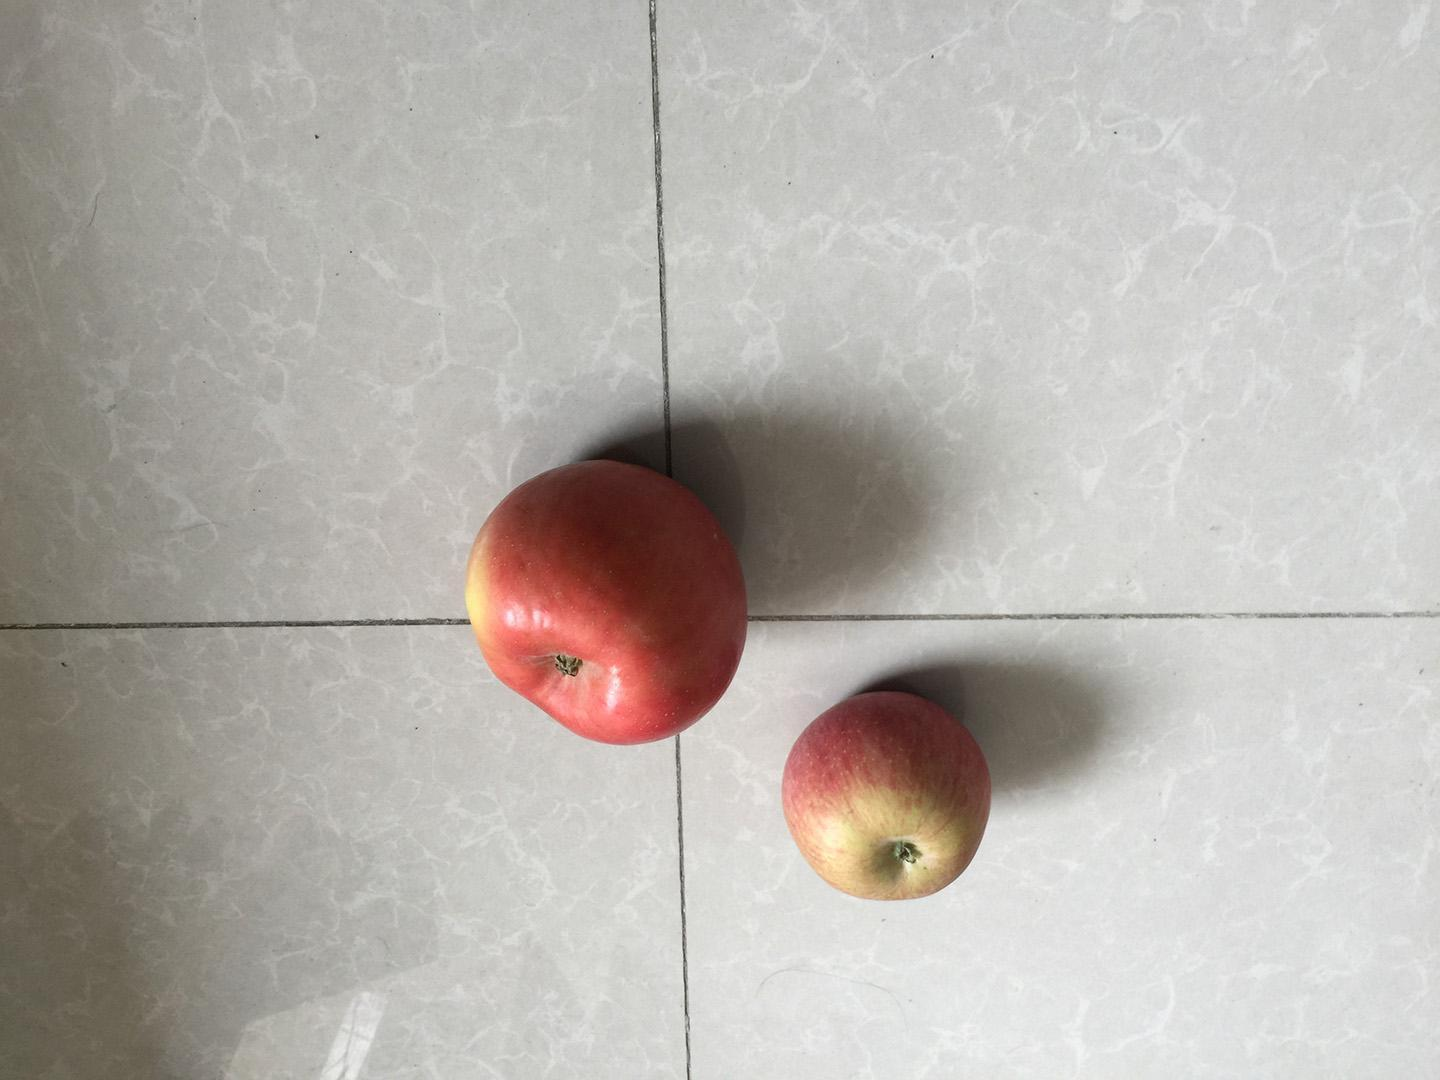apple: (454, 454, 759, 757), (772, 677, 1000, 905)
